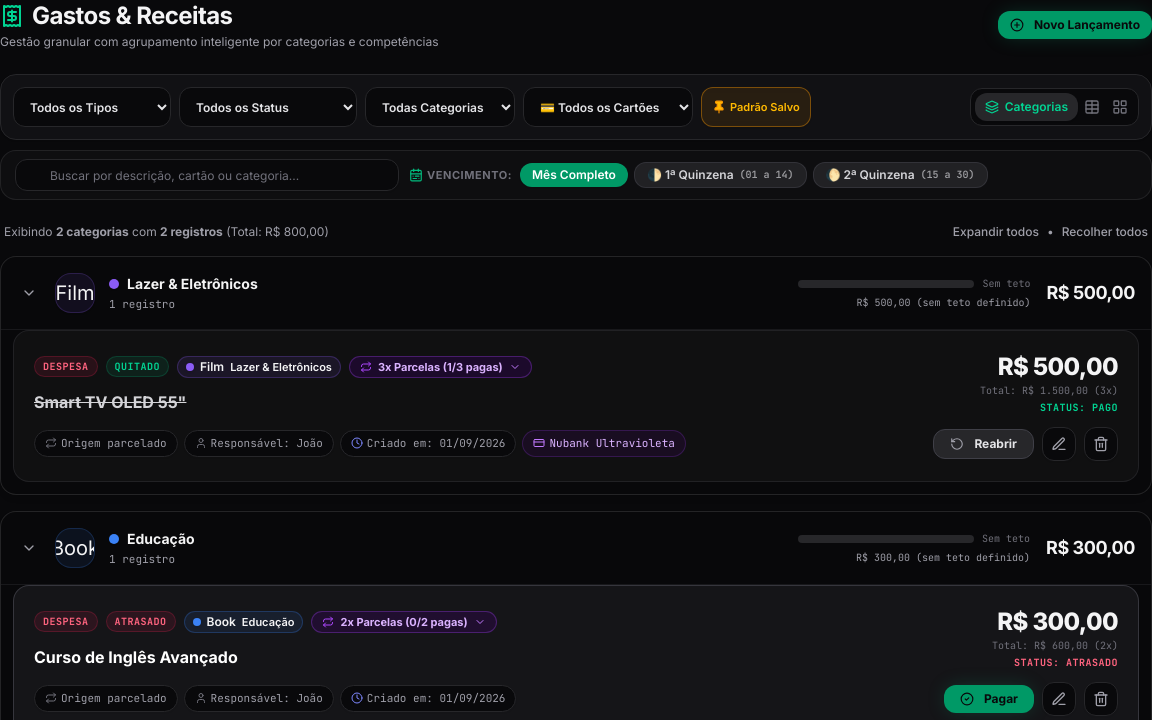
it: Gestão de Gastos Parcelados & Critérios 001 e 002 › Critério 002: Exibir somente pagamentos pendentes no filtro quando parcela vigente for paga › não exibe registro pai no filtro Pendentes se a parcela da competência vigente (Setembro) estiver paga
The width and height of the screenshot is (1152, 720).
Select "Pendentes" status filter
Select "Pendentes / Atrasados" in the 2nd dropdown showing "Todos os Status" at point(268, 107), box top-left (179, 87), bottom-right (357, 127)
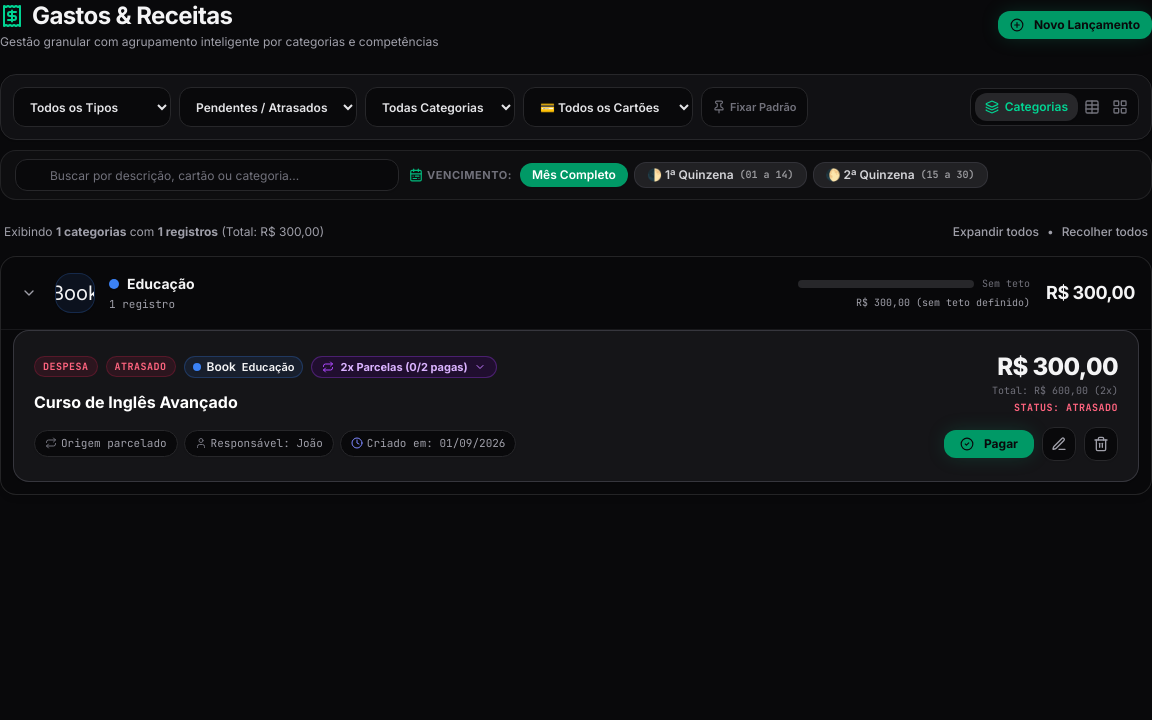
Expected: the heading "Curso de Inglês Avançado" is shown, top-left (34, 392), bottom-right (238, 412)
Result: the heading "Smart TV OLED 55\"" is gone
